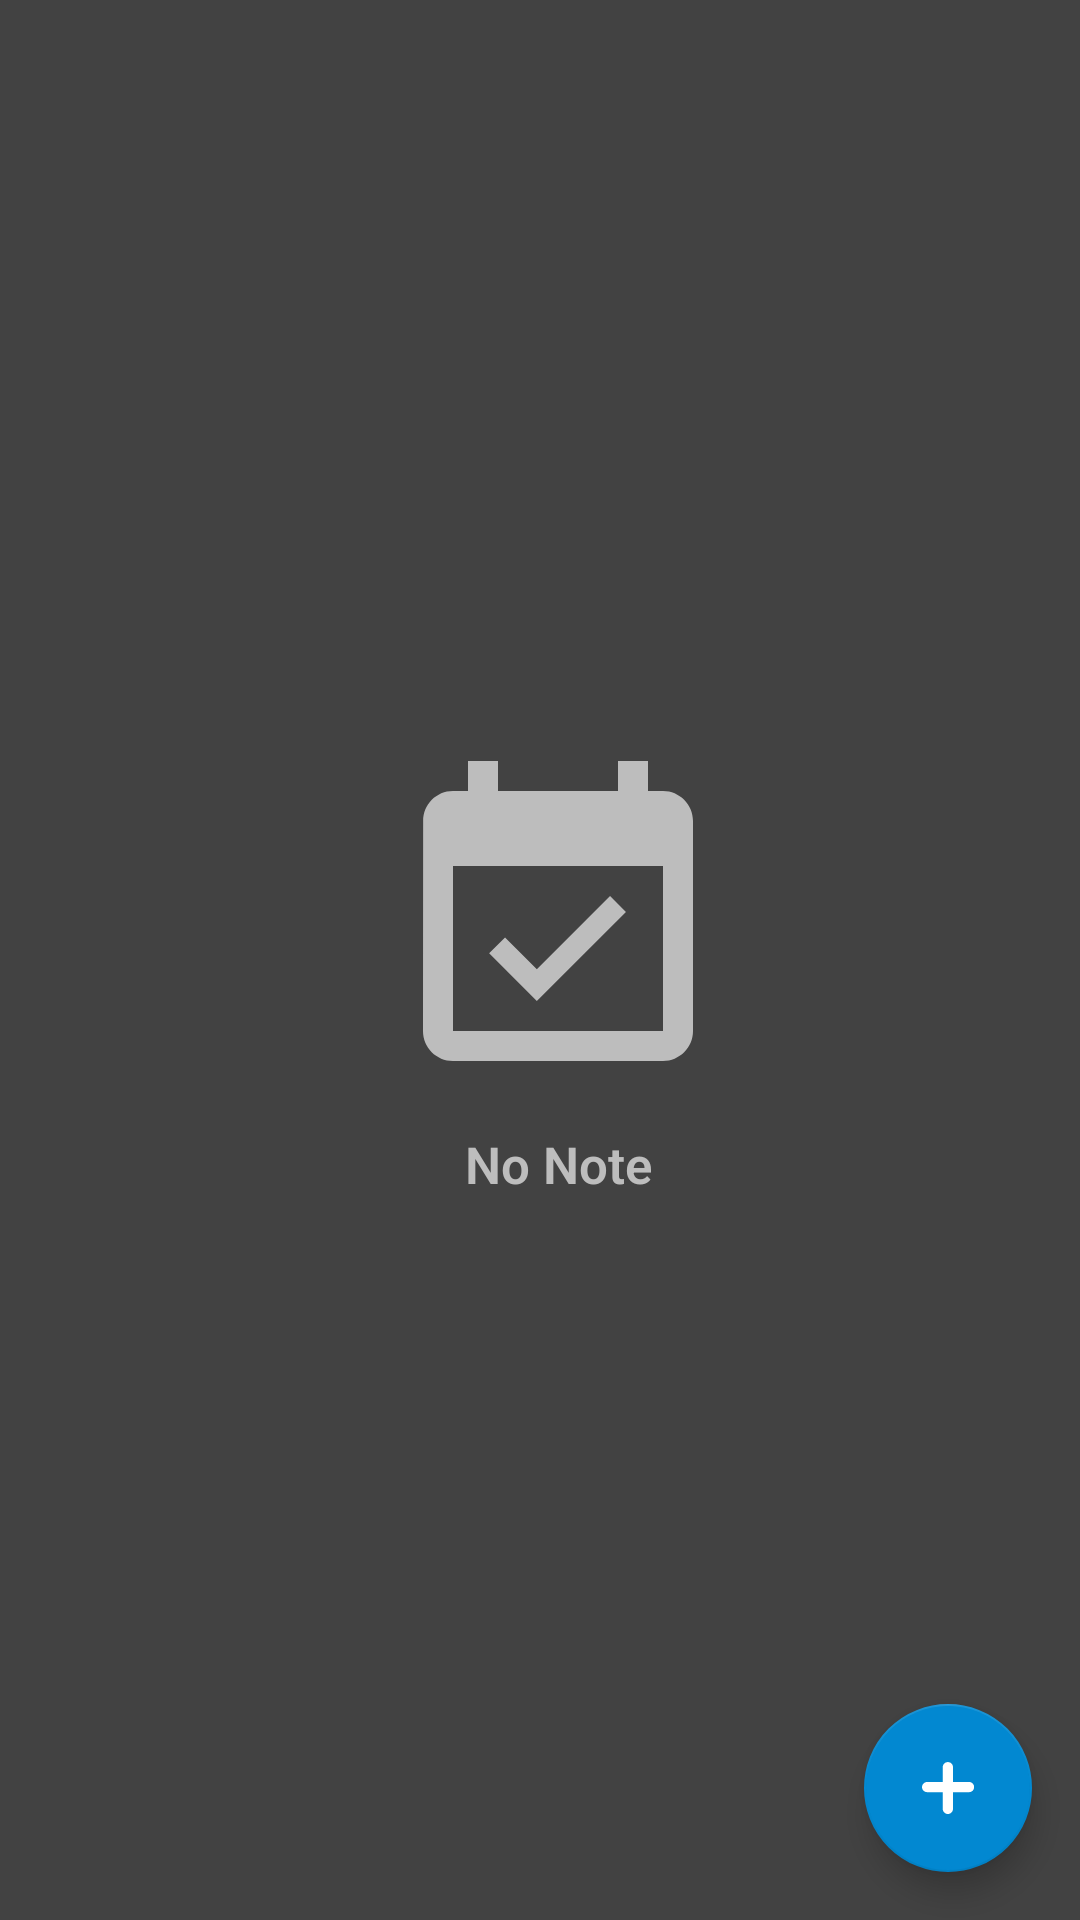

Icon bounding boxes for this 1080px x 1920px phone screenshot, format (x1, y1, x2, y2):
event empty: (423, 761, 693, 1061)
New Note: (864, 1704, 1032, 1872)
